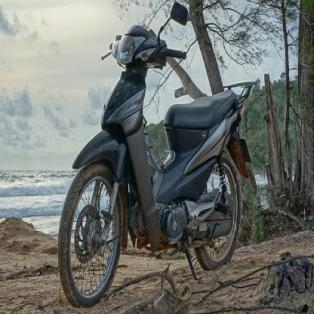Motocicleta: (51, 0, 256, 313)
